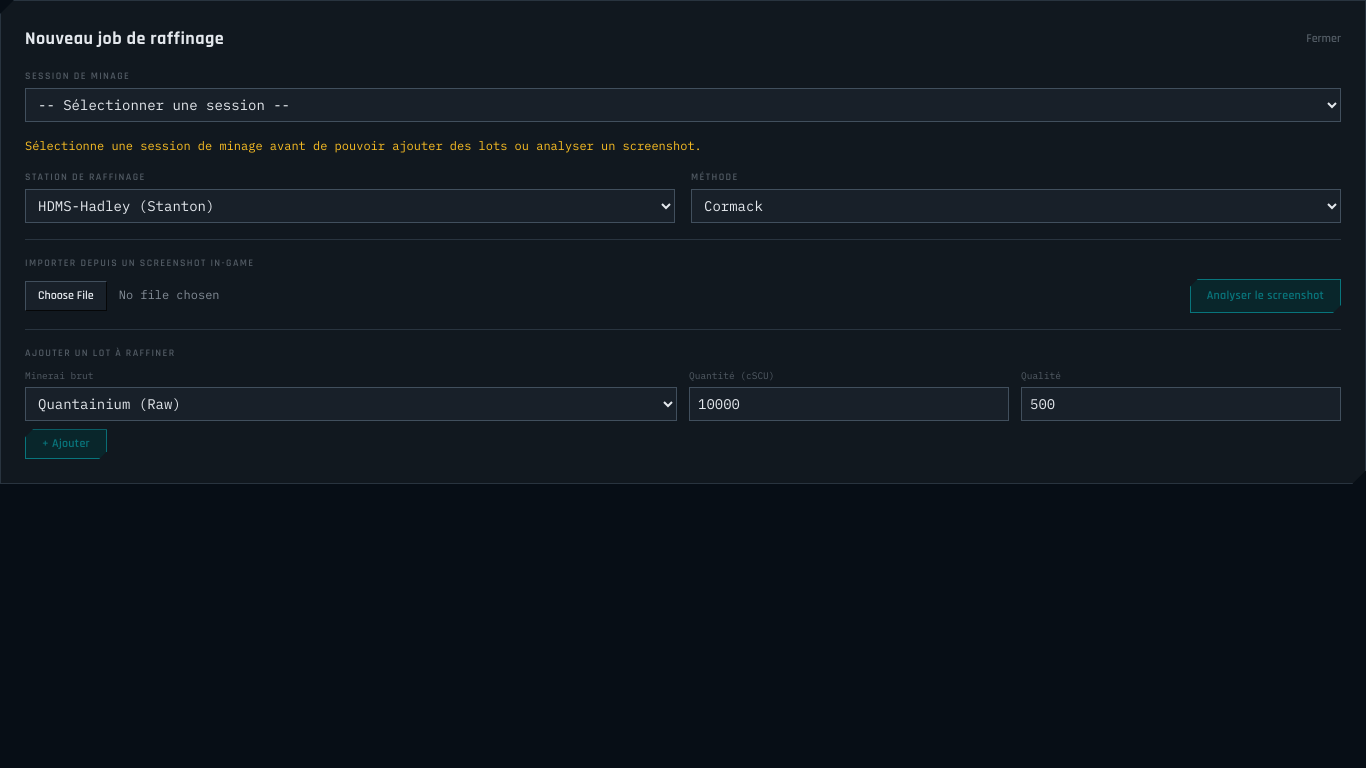
Test: NewJobForm — mode batch › ajoute un lot à la liste "Lots à raffiner" quand on clique sur + Ajouter
This screenshot has width=1366, height=768.
Expected: the button "+ Ajouter" is shown, [25,429,107,459]
Select "MIN001 — Stanton" in the dropdown labelled "Session de minage" at (683, 105), box [25,88,1341,122]
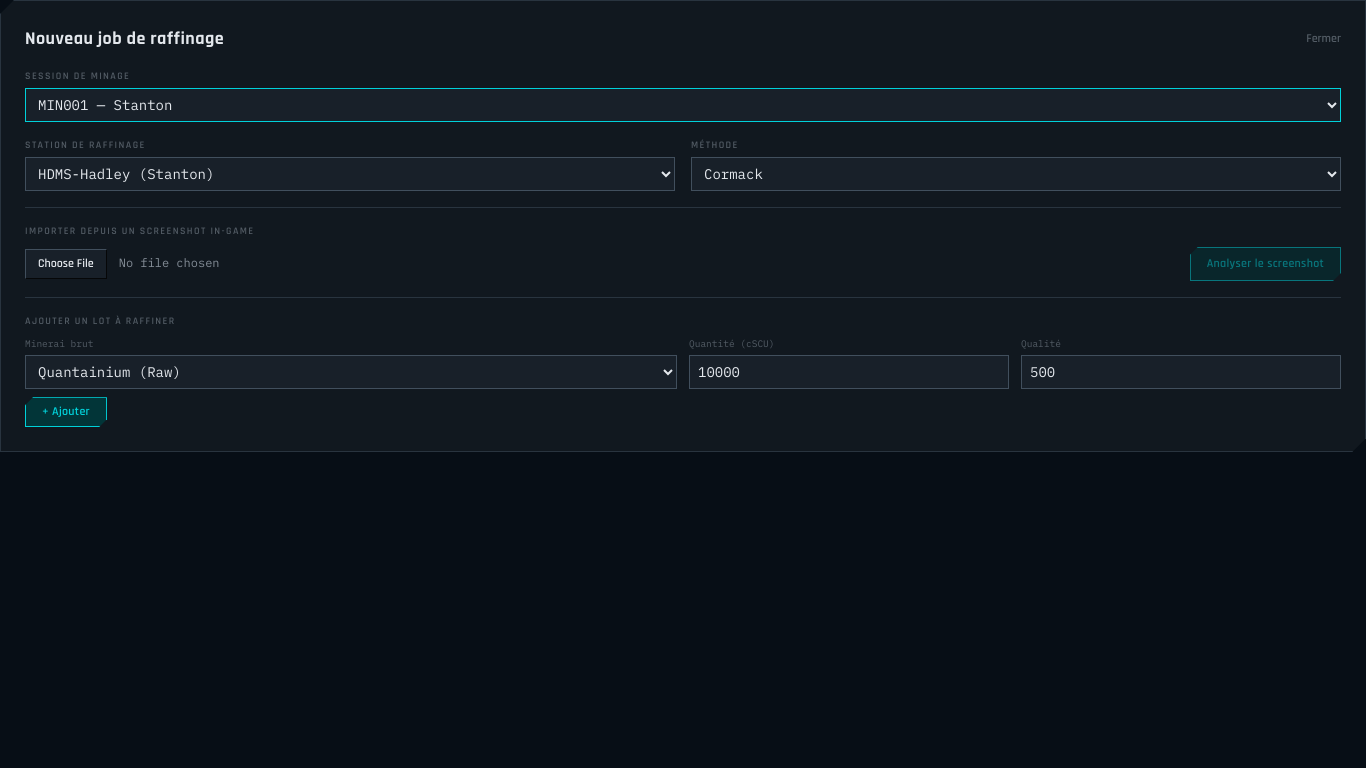
Click the button "+ Ajouter" at (66, 412), box [25,397,107,427]
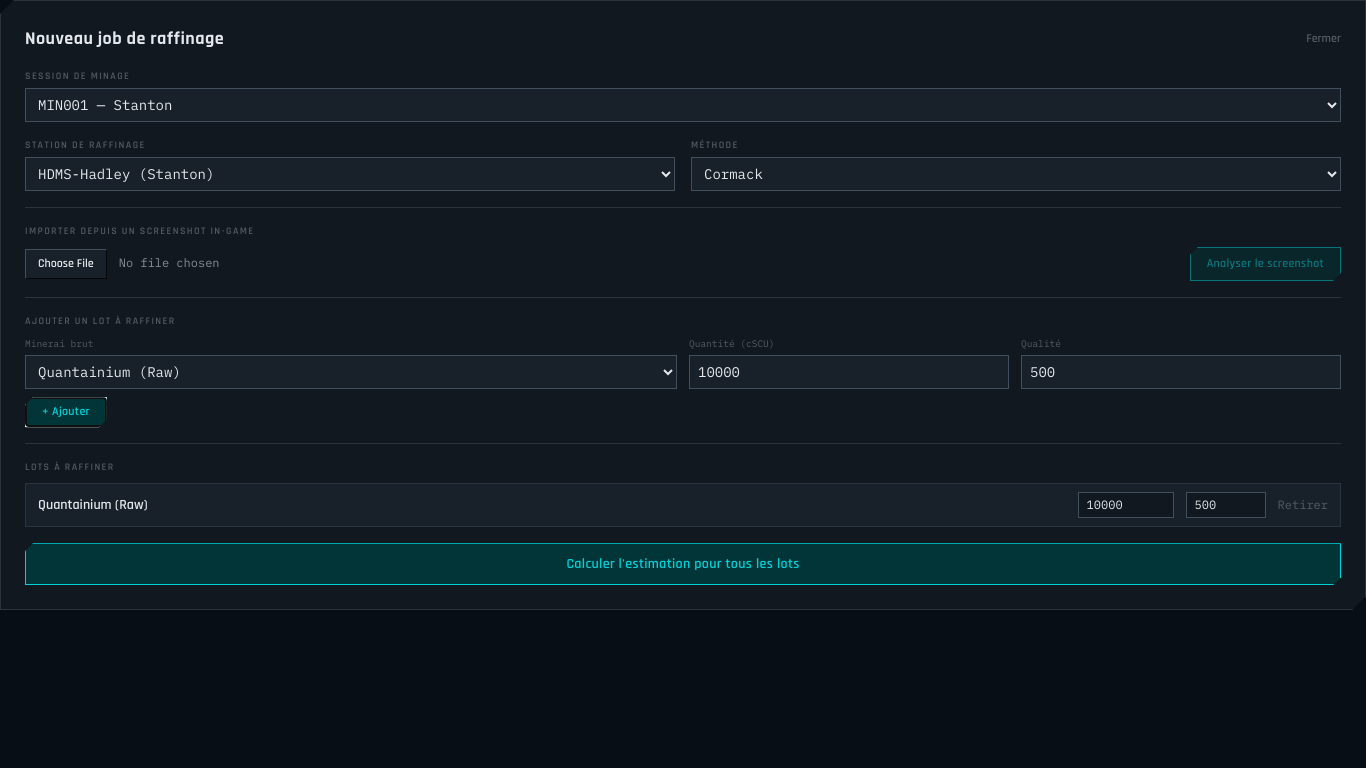
Result: the text "Lots à raffiner" is shown at [25,461,115,473]
Result: the text "Quantainium (Raw)" is shown 2 times
